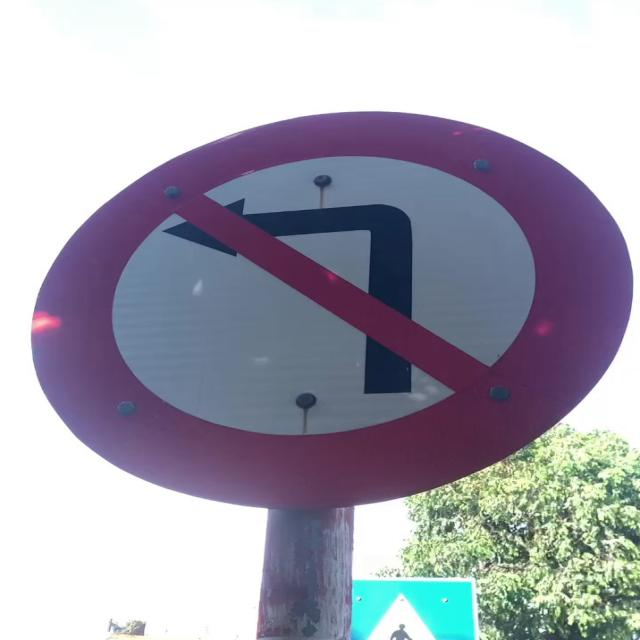Cam_Re_Trai: (34, 110, 638, 514)
